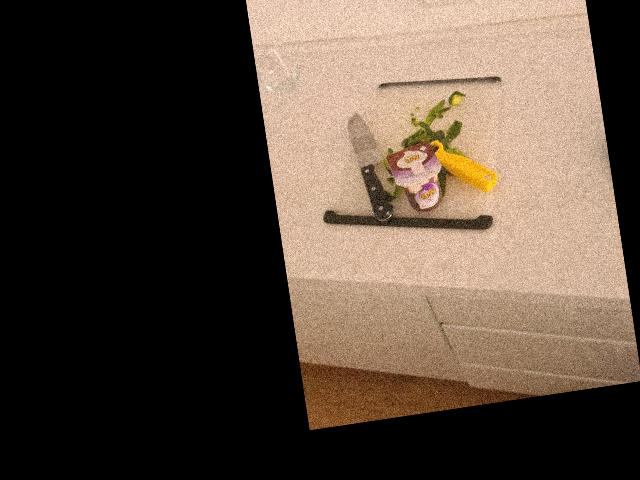milky: (388, 136, 449, 214)
